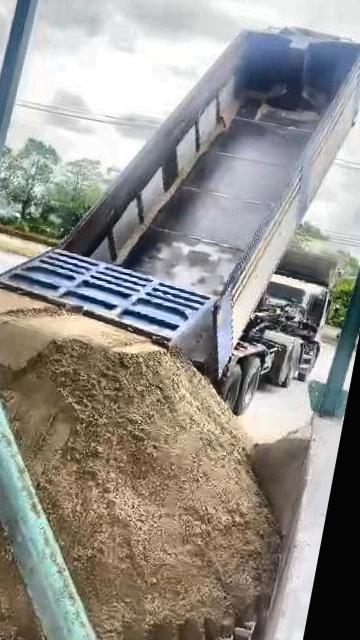sand: (0, 288, 277, 640), (0, 360, 38, 639), (251, 426, 311, 536)
